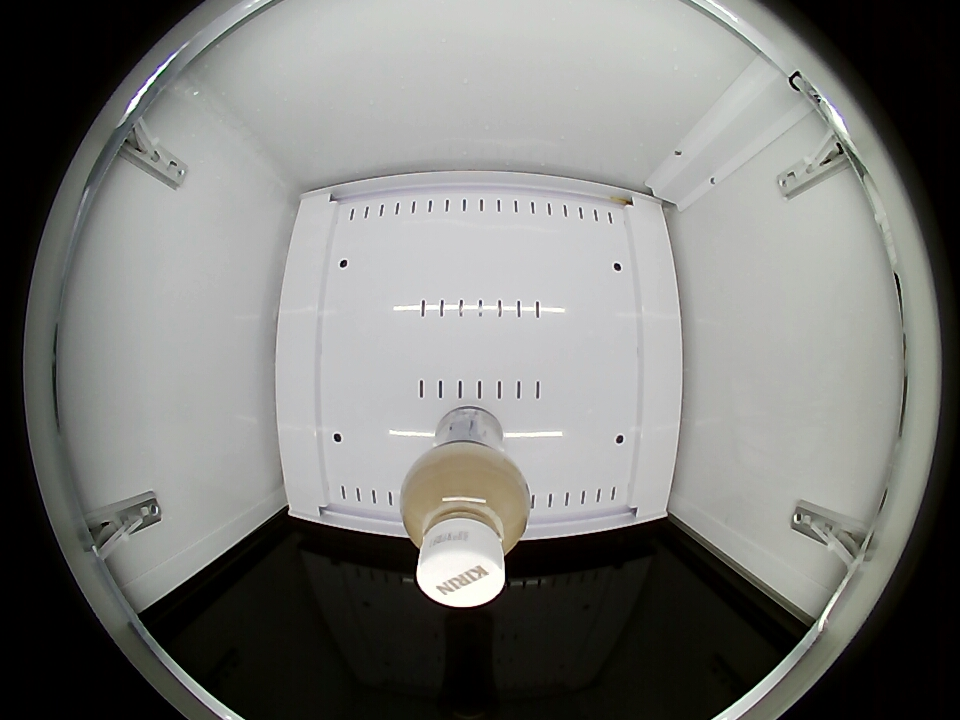wuhounaicha: (401, 443, 531, 609)
